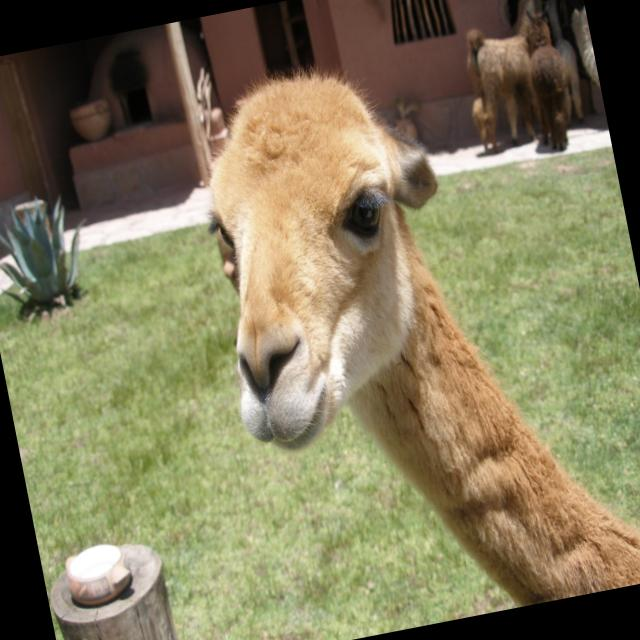alpaca: (176, 8, 640, 640)
